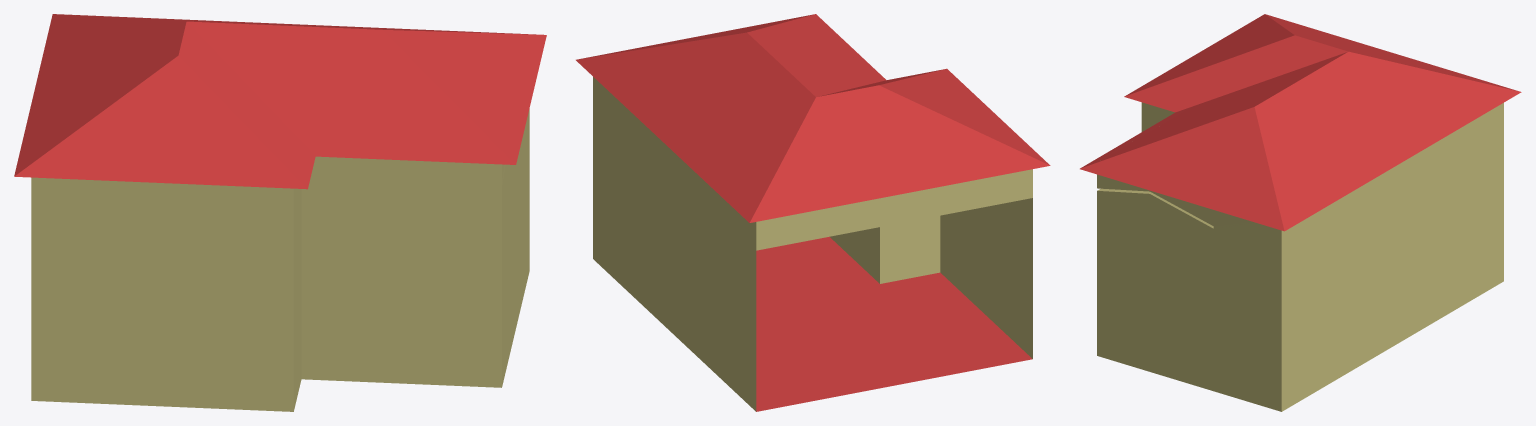
The picture shows the model from 3 angles, left to right: view 1: azimuth 30°, elevation 25°; view 2: azimuth 150°, elevation 25°; view 3: azimuth 270°, elevation 25°; orthographic projection. The views are drawn at different scales.
Bounding box in the file's own units: 19.97 × 17.18 × 10.27.
